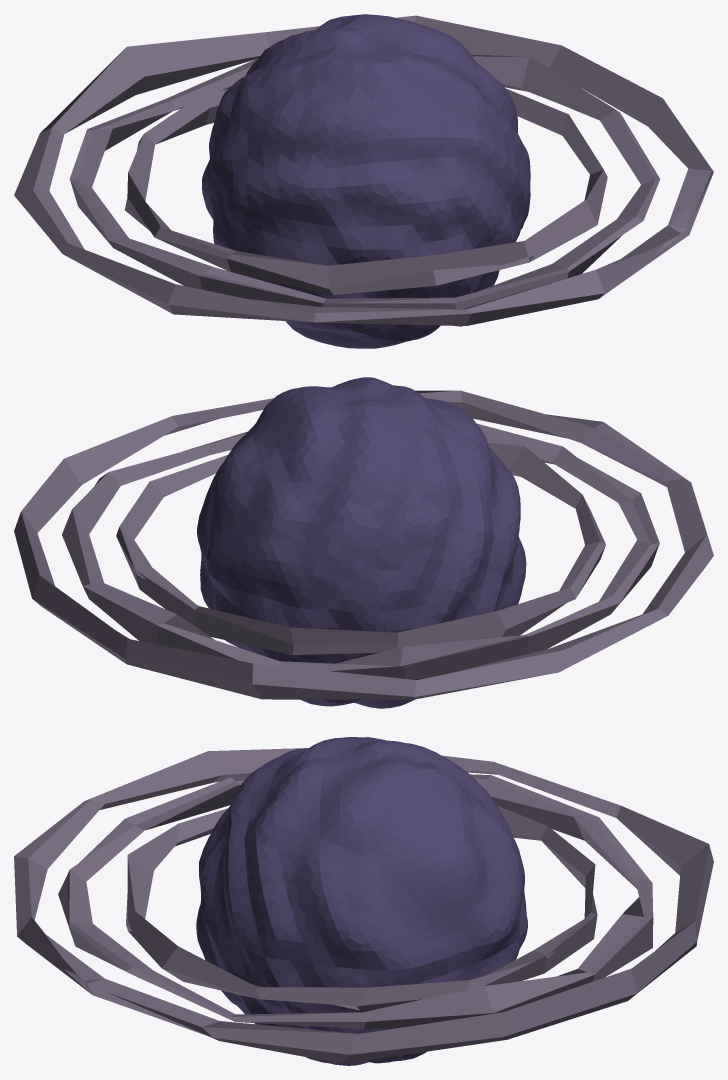
Rendered from planet_with_3ring.fbx.
3 renders of one model, top to bottom at view 1: azimuth 30°, elevation 25°; view 2: azimuth 150°, elevation 25°; view 3: azimuth 270°, elevation 25°, orthographic.
Visible parts, largest first — view 1: ring3, Icosphere.001; view 2: ring3, Icosphere.001; view 3: ring3, Icosphere.001.
Boxes of the visible parts, x1=… form: ring3: x1=14, y1=15, x2=713, y2=326; Icosphere.001: x1=202, y1=14, x2=530, y2=348; ring3: x1=14, y1=390, x2=713, y2=699; Icosphere.001: x1=197, y1=377, x2=526, y2=708; ring3: x1=14, y1=748, x2=713, y2=1063; Icosphere.001: x1=196, y1=737, x2=527, y2=1065.
Size of the model in its own units: 433 by 203 by 430.
